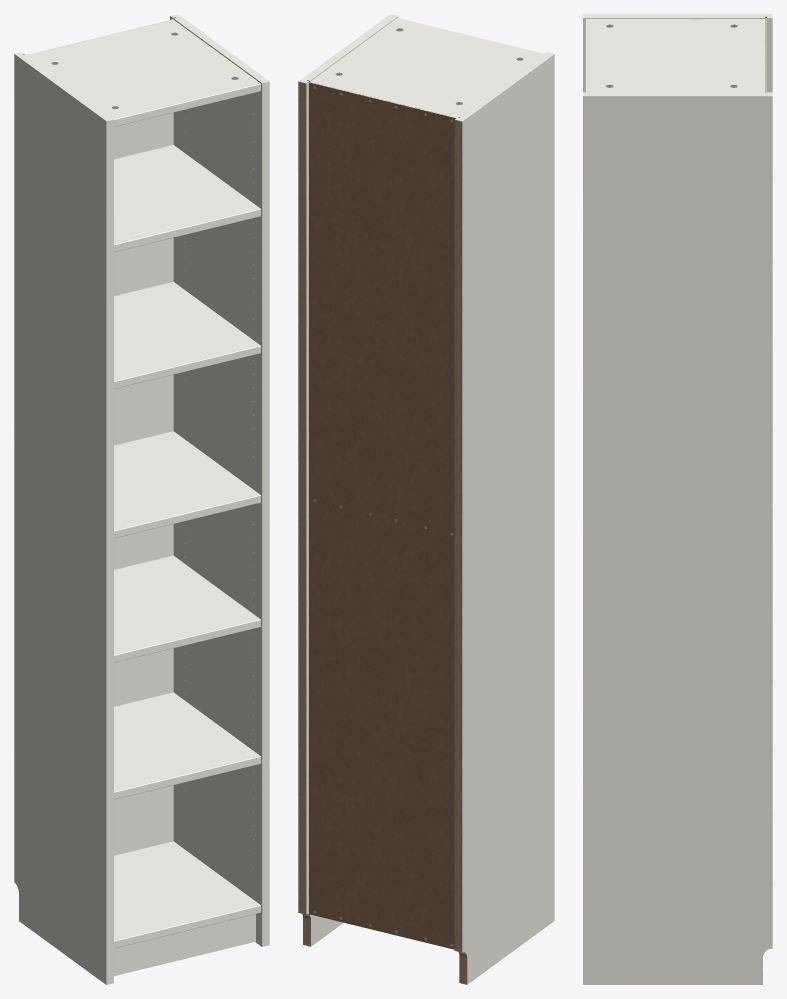
3 renders of one model, left to right at view 1: azimuth 30°, elevation 25°; view 2: azimuth 150°, elevation 25°; view 3: azimuth 270°, elevation 25°, orthographic. The views are drawn at different scales.
Parts seen in each view (by area): view 1: world; view 2: world; view 3: world.
Part boxes in pixels (x1,y1,x2,y2): world: (14,14,269,984); world: (298,14,554,984); world: (583,14,772,984).
Bounding box in the file's own units: 0.4 × 2.02 × 0.39.
1 material, 1 textured.
